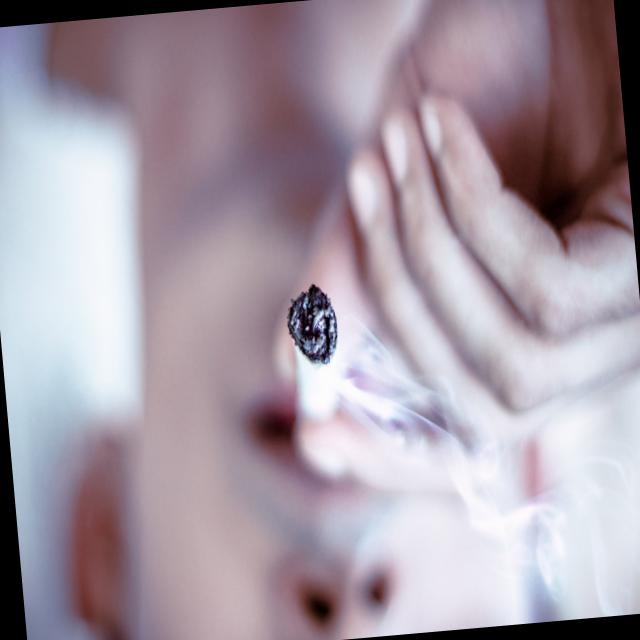cigarette: (271, 254, 374, 444)
